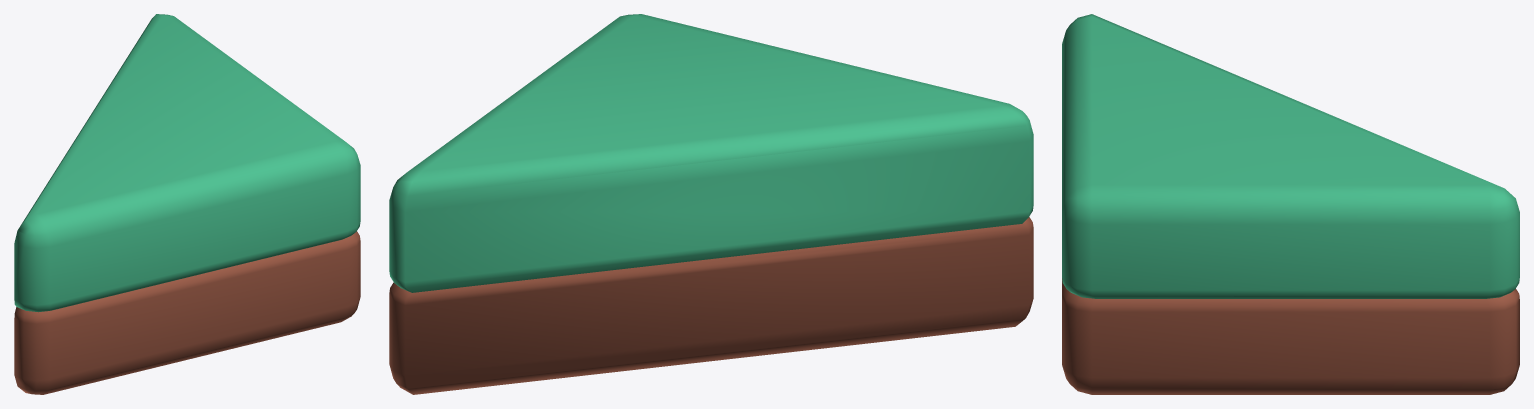
The model's file is tileLow_forest_001.glb.
3 views of the same model, side by side, from view 1: azimuth 30°, elevation 25°; view 2: azimuth 150°, elevation 25°; view 3: azimuth 270°, elevation 25° (orthographic). The views are drawn at different scales.
Parts seen in each view (by area): view 1: tileLow_forest.001; view 2: tileLow_forest.001; view 3: tileLow_forest.001.
Part boxes in pixels (bbox=[...]): tileLow_forest.001: bbox=[14, 14, 360, 394]; tileLow_forest.001: bbox=[389, 14, 1033, 394]; tileLow_forest.001: bbox=[1062, 14, 1519, 394].
Bounding box in the file's own units: 2 × 1 × 2.
